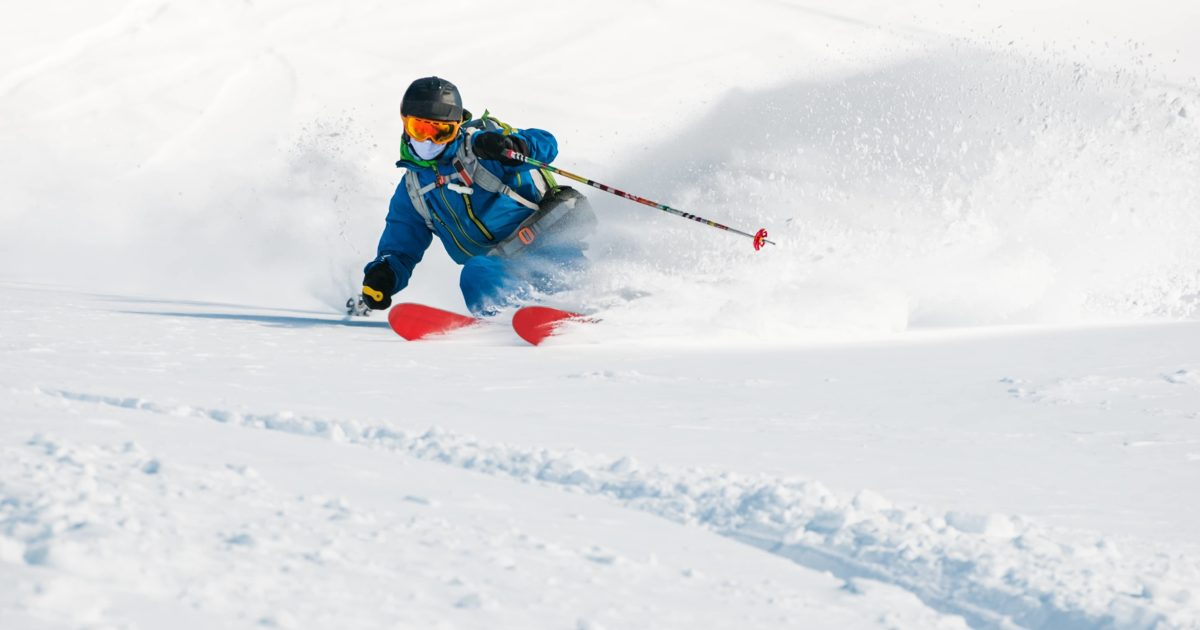skier: (317, 73, 779, 349)
